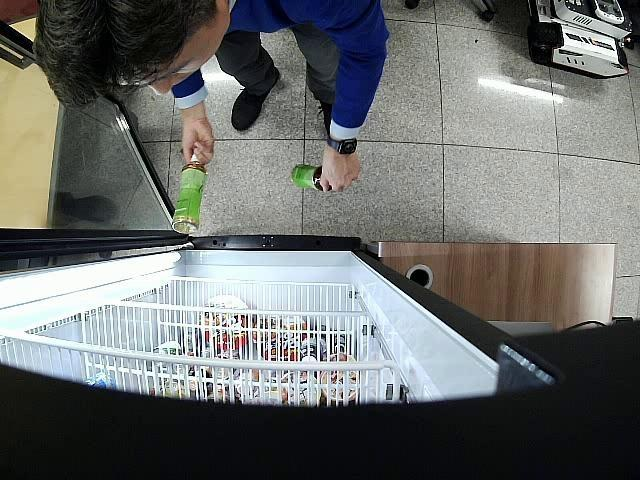19_17cha: (172, 155, 208, 233), (292, 164, 331, 191)
